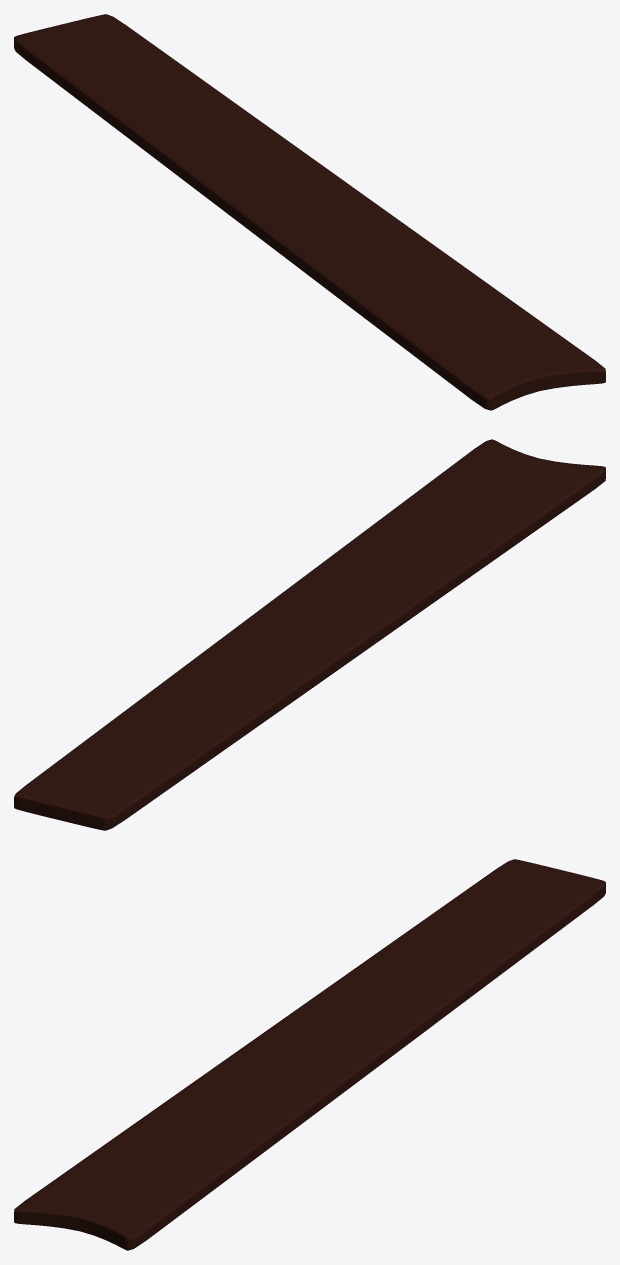
File: GuitarePart2.fbx
3 renders of one model, top to bottom at view 1: azimuth 30°, elevation 25°; view 2: azimuth 150°, elevation 25°; view 3: azimuth 330°, elevation 25°, orthographic.
Parts seen in each view (by area): view 1: GuitarePart2; view 2: GuitarePart2; view 3: GuitarePart2.
Boxes of the visible parts, left/top/right/bottom form: GuitarePart2: left=14, top=14, right=605, bottom=410; GuitarePart2: left=14, top=439, right=605, bottom=830; GuitarePart2: left=14, top=859, right=605, bottom=1250.
Size of the model in its own units: 11.79 by 1.27 by 81.82.
